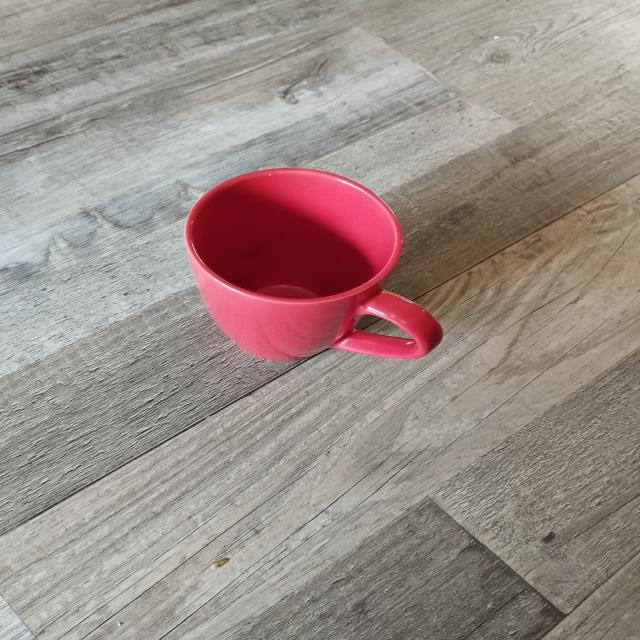Cup: (178, 153, 456, 419)
